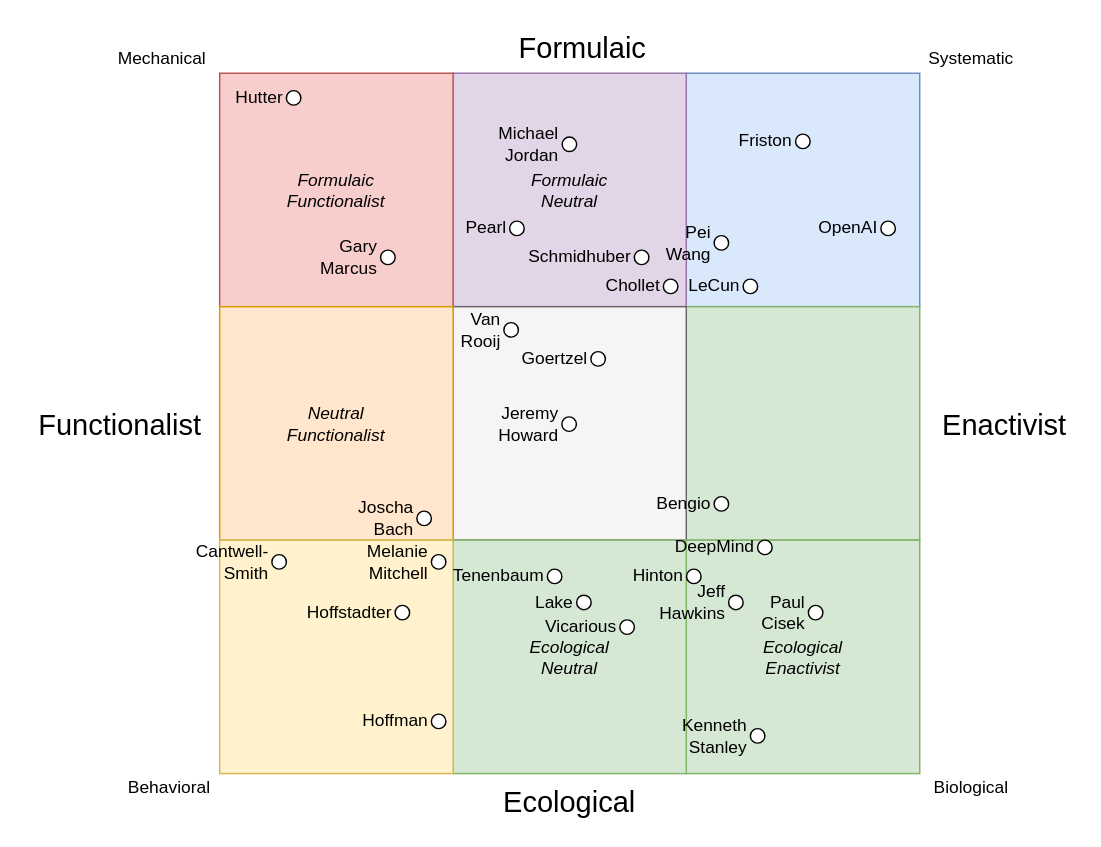
The diagram is 1101 pixels wide and 847 high, and some of its shapes have lost their labels. The box of each missing label's shape, as (x1, y1, x2, y2) in pixels:
Ecological Functionalist: (218, 539, 453, 774)
Formulaic Enactivist: (685, 72, 920, 307)
Neutral Enactivist: (685, 305, 920, 540)
